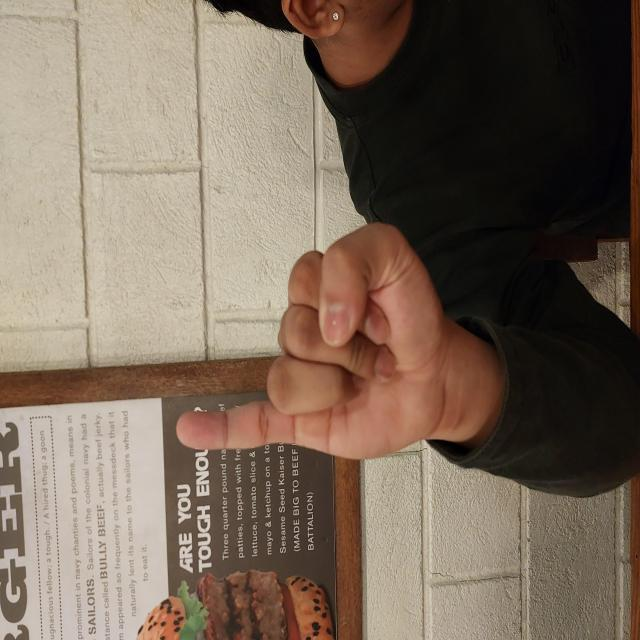I: (179, 175, 420, 451)
